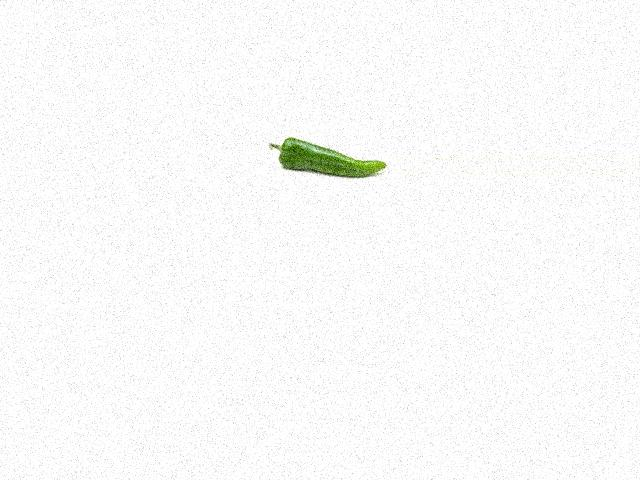bell_pepper: (264, 135, 386, 180)
